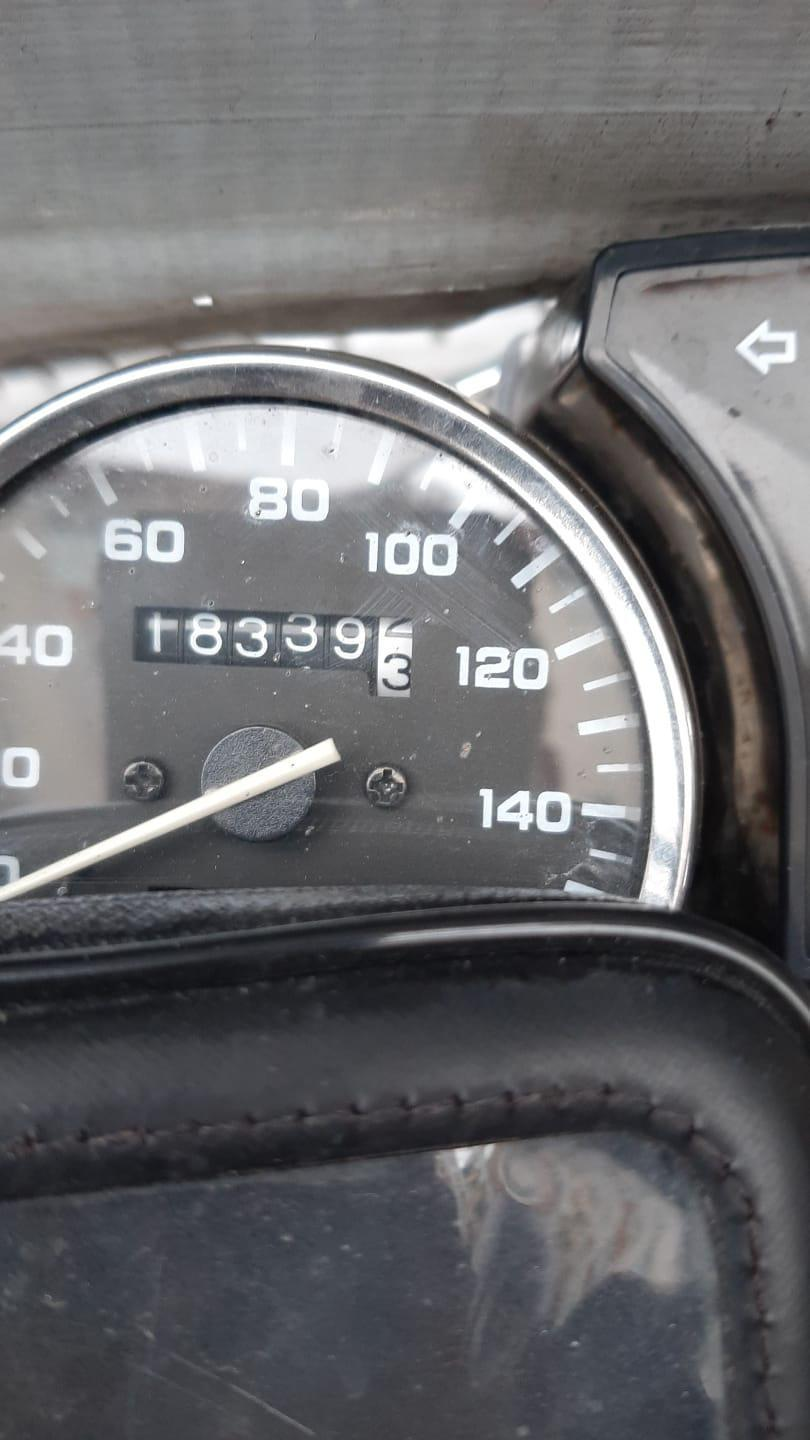1: (151, 611, 162, 654)
2: (383, 600, 416, 639)
3: (234, 616, 268, 659), (284, 611, 318, 652), (382, 652, 412, 690)
8: (188, 612, 222, 655)
9: (333, 616, 366, 660)
odometer: (126, 602, 417, 702)
